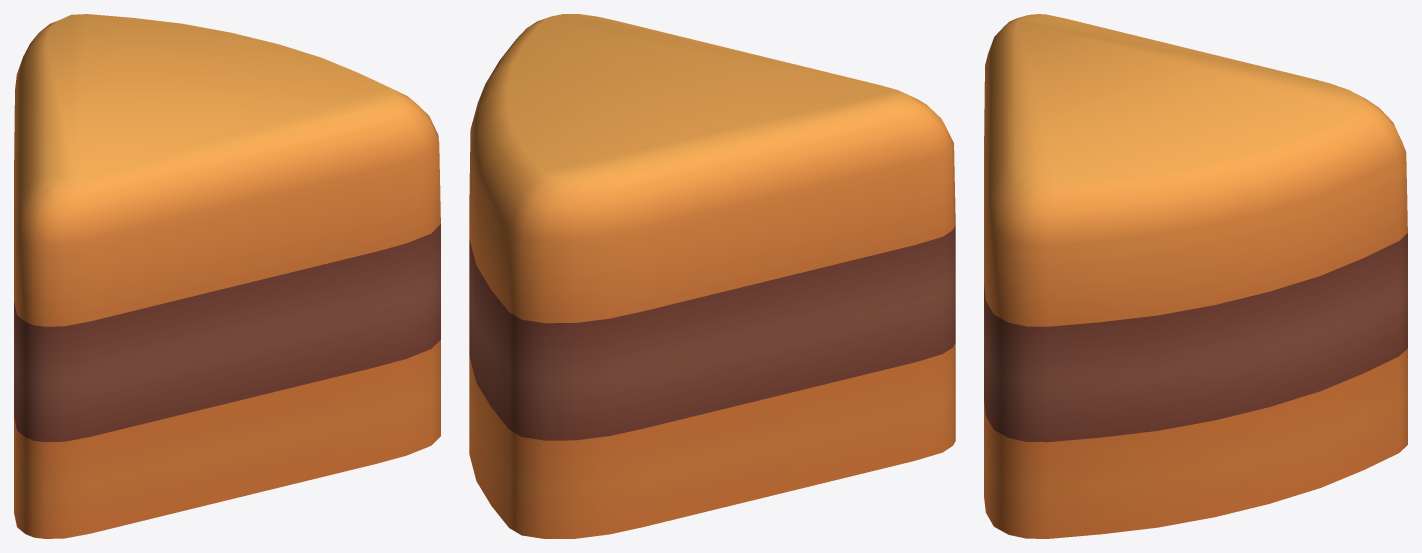
File: cake02_slice.FBX
3 renders of one model, left to right at view 1: azimuth 30°, elevation 25°; view 2: azimuth 150°, elevation 25°; view 3: azimuth 270°, elevation 25°, orthographic.
Parts seen in each view (by area): view 1: cake02_slice; view 2: cake02_slice; view 3: cake02_slice.
Part boxes in pixels (<box>): cake02_slice: <box>14,14,440,538</box>; cake02_slice: <box>469,14,955,538</box>; cake02_slice: <box>984,14,1407,538</box>.
Size of the model in its own units: 0.00902 by 0.00692 by 0.00787.
